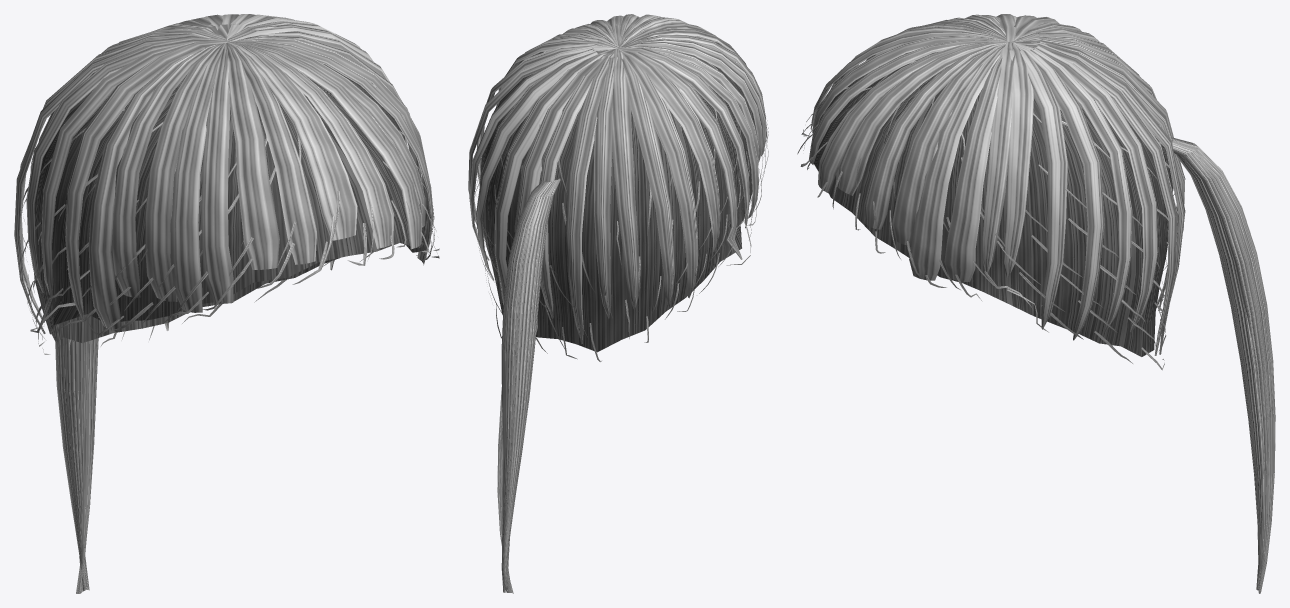
The model's file is unified_m_ponytail.glb.
The picture shows the model from 3 angles, left to right: view 1: azimuth 30°, elevation 25°; view 2: azimuth 150°, elevation 25°; view 3: azimuth 270°, elevation 25°; orthographic projection. The views are drawn at different scales.
Parts seen in each view (by area): view 1: Hair_directional_locks, Hair_scalp, Hair_tail_strands, Hair_layered_strands; view 2: Hair_directional_locks, Hair_scalp, Hair_tail_strands, Hair_layered_strands; view 3: Hair_directional_locks, Hair_scalp, Hair_tail_strands, Hair_layered_strands.
Part boxes in pixels (x1,y1,x2,y2): Hair_directional_locks: [14, 14, 433, 333]; Hair_scalp: [33, 64, 425, 343]; Hair_tail_strands: [55, 337, 98, 593]; Hair_layered_strands: [20, 109, 439, 354]; Hair_directional_locks: [468, 14, 766, 344]; Hair_scalp: [480, 52, 756, 352]; Hair_tail_strands: [497, 178, 560, 593]; Hair_layered_strands: [474, 57, 768, 361]; Hair_directional_locks: [809, 14, 1185, 355]; Hair_scalp: [810, 52, 1171, 356]; Hair_tail_strands: [1159, 137, 1275, 593]; Hair_layered_strands: [797, 56, 1178, 370].
Size of the model in its own units: 0.1017 by 0.1793 by 0.1405.
2 materials, 2 textured.
